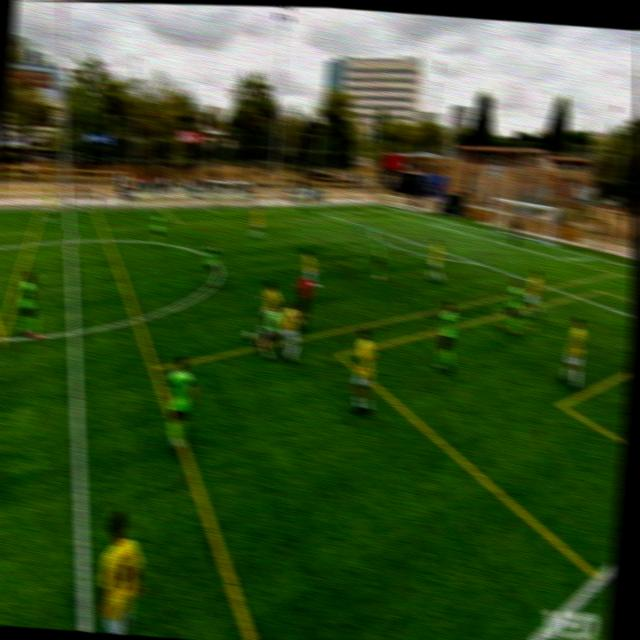bigarea_top_inner: (314, 208, 326, 216)
bigarea_top_outter: (399, 208, 408, 215)
bottom_arc_area_intersection: (472, 254, 486, 272)
corner: (377, 202, 385, 209)
halfcircle_bottom: (62, 317, 86, 346)
halfcircle_top: (62, 231, 80, 252)
midline_top_intersection: (63, 206, 75, 215)
smallarea_bottom_inner: (564, 256, 575, 266)
smallarea_bottom_outter: (590, 253, 602, 262)
smallarea_top_inner: (426, 221, 436, 230)
smallarea_top_outter: (456, 221, 464, 228)
top_arc_area_intersection: (369, 223, 382, 237)
